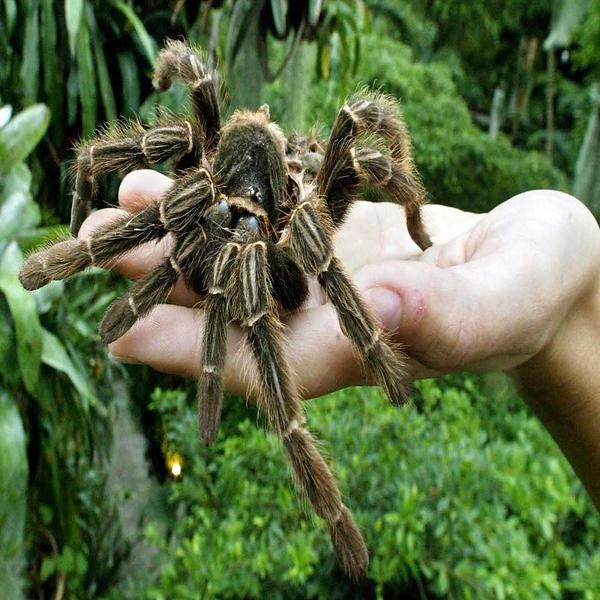Tarantula Spider: (43, 52, 418, 557)
